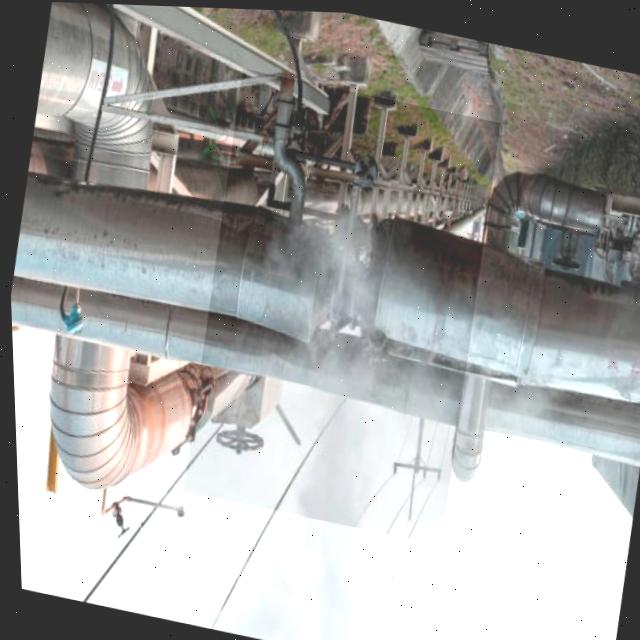corrosion: (277, 236, 423, 464)
